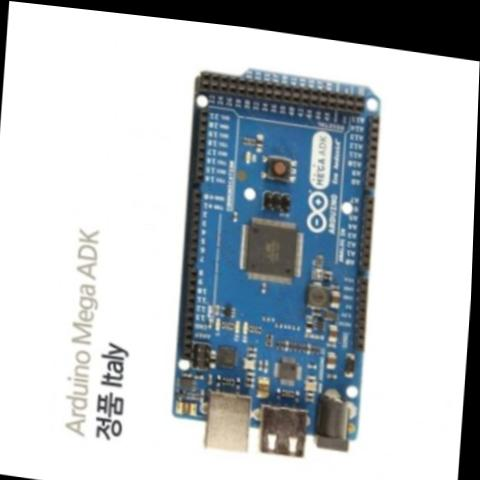Arduino-Mega: (153, 47, 394, 473)
